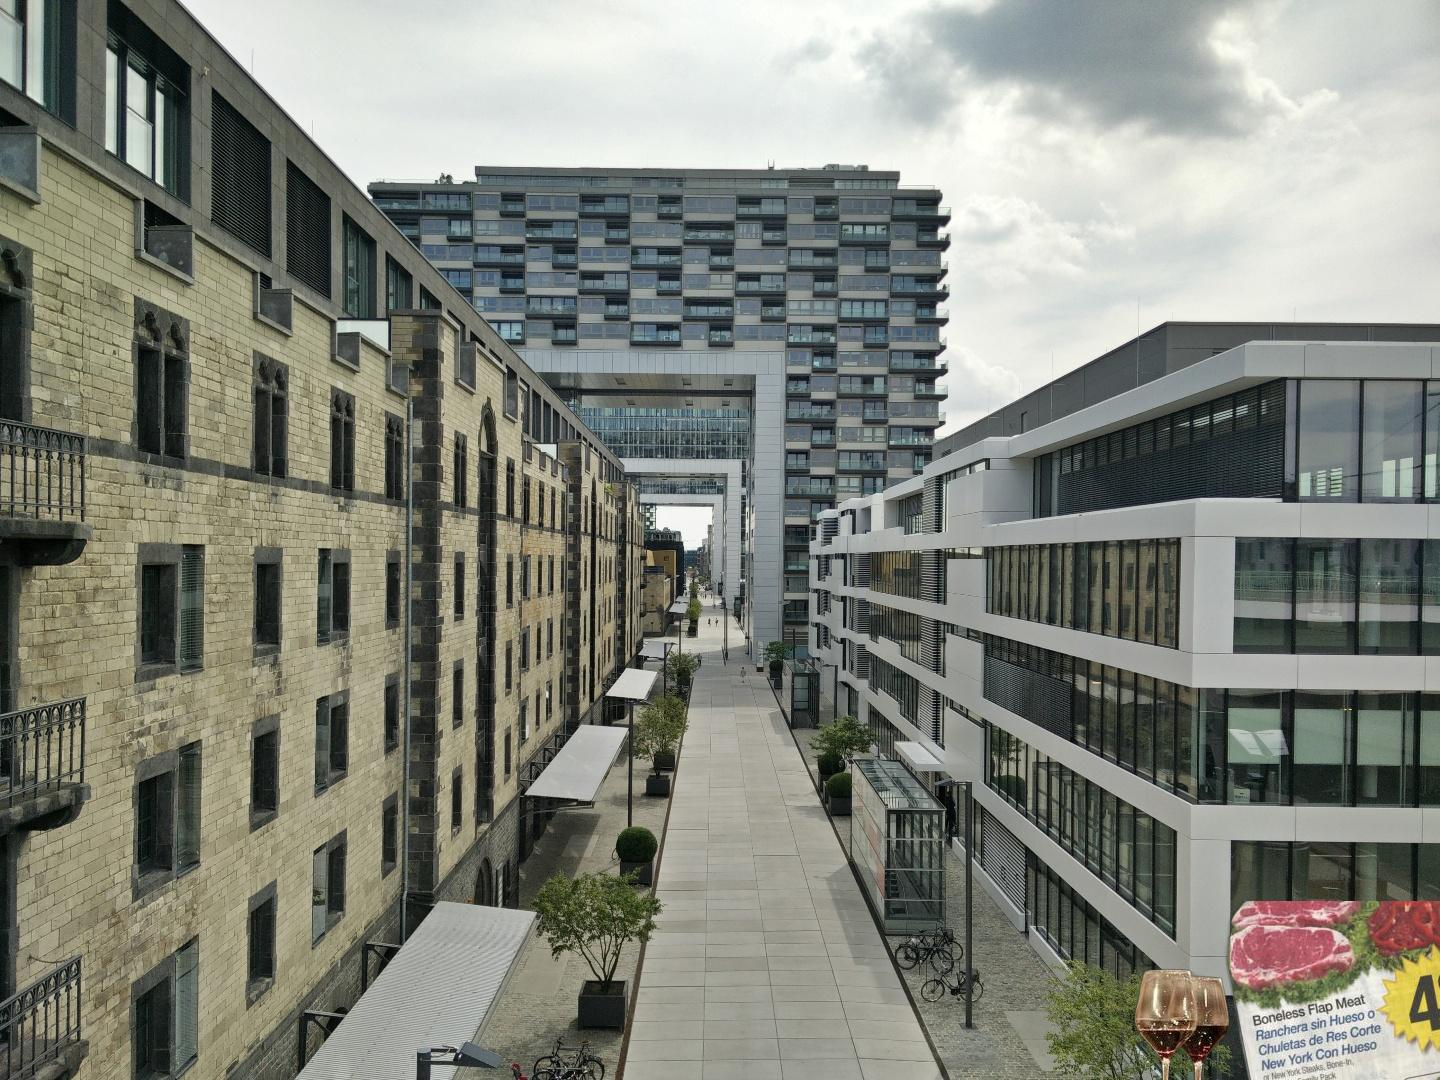paper: (1180, 901, 1440, 1080)
plastic-bag: (1130, 968, 1301, 1080)
